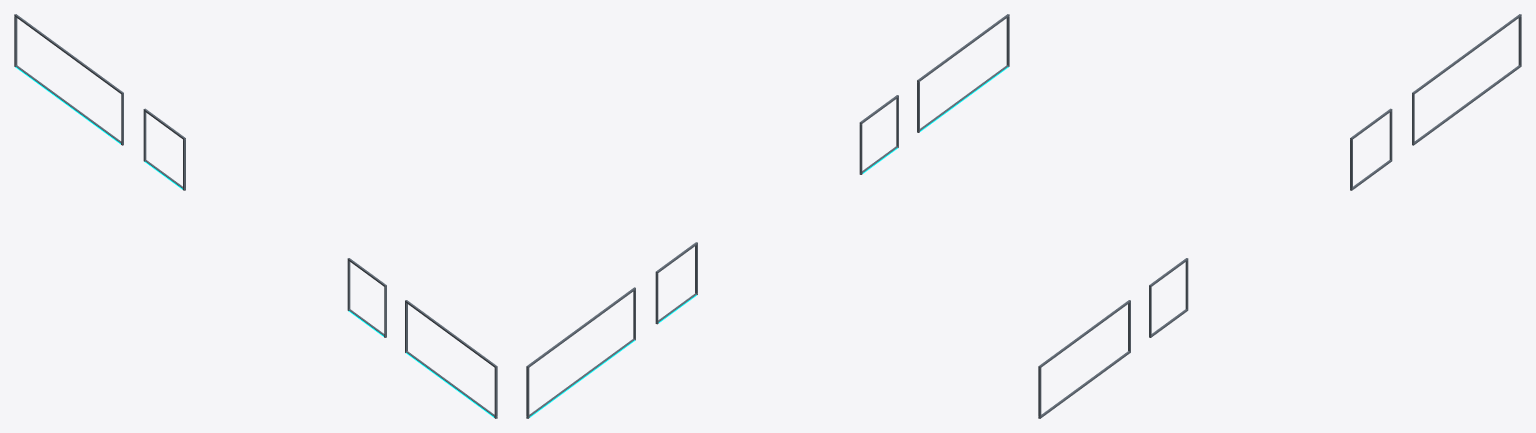
The model's file is tt_gallery_window_frames.glb.
The picture shows the model from 3 angles, left to right: view 1: azimuth 30°, elevation 25°; view 2: azimuth 150°, elevation 25°; view 3: azimuth 330°, elevation 25°; orthographic projection.
Parts seen in each view (by area): view 1: Window_AlloyFrame, Window_CyanSill; view 2: Window_AlloyFrame, Window_CyanSill; view 3: Window_AlloyFrame.
Boxes of the visible parts, <box> form: Window_AlloyFrame: <box>14,14,497,418</box>; Window_CyanSill: <box>15,66,494,417</box>; Window_AlloyFrame: <box>526,14,1009,418</box>; Window_CyanSill: <box>529,66,1008,417</box>; Window_AlloyFrame: <box>1038,14,1521,418</box>.
Size of what is drawn, in the model's own units: 0.088 by 2.01 by 33.51.
2 materials, 1 textured.
